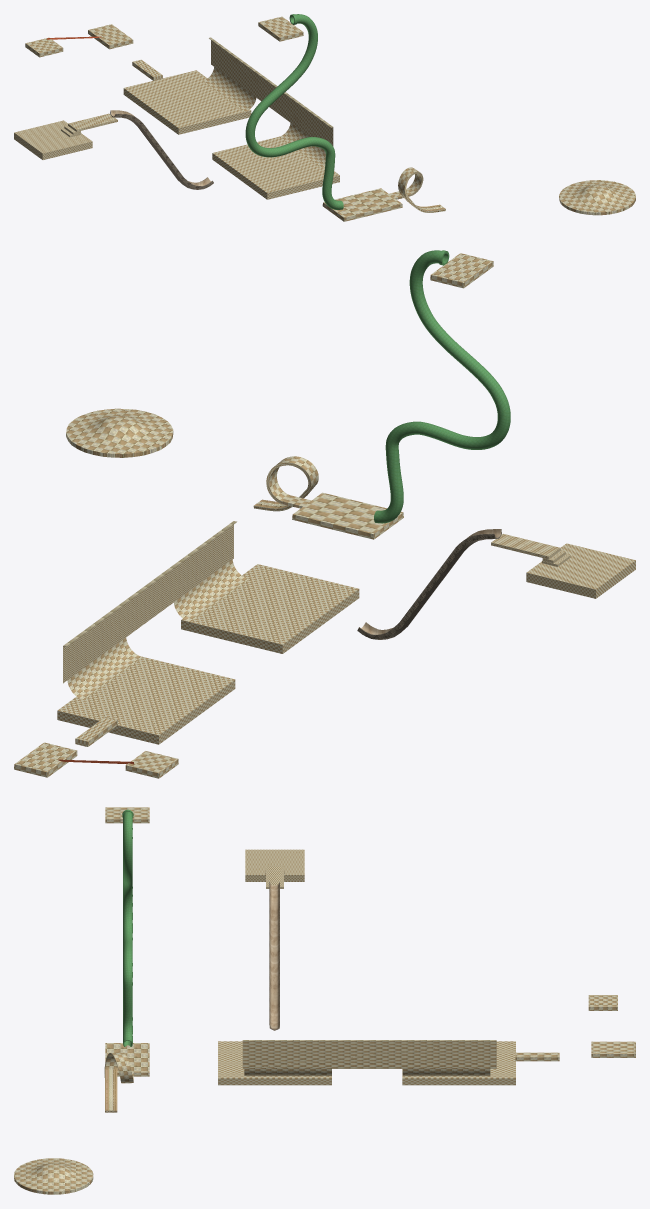
The model's file is Tutorial.dae.
3 renders of one model, top to bottom at view 1: azimuth 30°, elevation 25°; view 2: azimuth 150°, elevation 25°; view 3: azimuth 270°, elevation 25°, orthographic. The views are drawn at different scales.
Parts seen in each view (by area): view 1: Cube_006, Cube_005, PipeOutside, Cube_007, Island, Cube, Cube_011, Cylinder_001, Spiral, RampBark, Cube_010, Cube_009 (+4 smaller); view 2: Cube_005, Cube_006, Cube_007, PipeOutside, Island, Cube, Cube_011, Cylinder, Cylinder_001, Spiral, RampBark, Cube_010 (+3 smaller); view 3: Cube_007, Island, PipeOutside, Cube_005, Cube_006, Cube, Ramp, Spiral, Cube_011, Cylinder_001, Cylinder, Cube_009 (+1 smaller).
Part boxes in pixels (x1,y1,x2,y2): Cube_006: (123, 70, 251, 134); Cube_005: (212, 137, 339, 199); PipeOutside: (245, 14, 343, 209); Cube_007: (209, 37, 333, 146); Island: (559, 180, 635, 215); Cube: (14, 120, 92, 159); Cube_011: (322, 188, 402, 221); Cylinder_001: (203, 67, 256, 111); Spiral: (389, 167, 445, 212); RampBark: (110, 110, 213, 189); Cube_010: (258, 16, 303, 41); Cube_009: (88, 24, 133, 49); Cube_005: (181, 564, 359, 653); Cube_006: (57, 656, 235, 744); Cube_007: (63, 521, 236, 683); PipeOutside: (374, 250, 510, 523); Island: (66, 408, 173, 457); Cube: (526, 543, 635, 598); Cube_011: (292, 492, 403, 539); Cylinder: (174, 559, 248, 621); Cylinder_001: (67, 637, 142, 699); Spiral: (253, 456, 318, 511); RampBark: (357, 529, 501, 639); Cube_010: (430, 253, 493, 288); Cube_007: (242, 1040, 496, 1068); Island: (14, 1158, 93, 1194); PipeOutside: (123, 811, 132, 1046); Cube_005: (218, 1041, 331, 1085); Cube_006: (402, 1041, 515, 1085); Cube: (245, 849, 304, 881); Ramp: (270, 882, 279, 1029); Spiral: (104, 1052, 133, 1112); Cube_011: (105, 1043, 149, 1076); Cylinder_001: (402, 1068, 490, 1076); Cylinder: (244, 1068, 331, 1076); Cube_009: (591, 1041, 635, 1057).
Bounding box in the file's own units: 9271 × 9715 × 3997.
5 materials, 5 textured.
